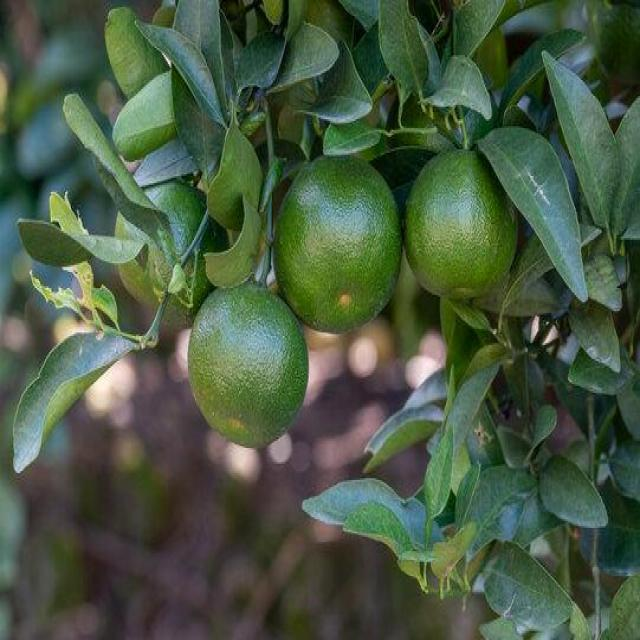Jeruk Belum Matang: (272, 153, 406, 336), (185, 284, 314, 450), (114, 182, 239, 334), (404, 146, 522, 304)
